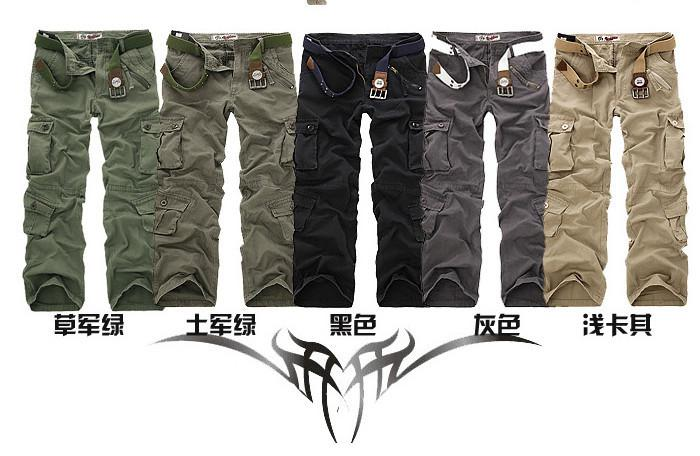pants: (19, 31, 162, 312), (545, 37, 691, 308), (160, 34, 298, 299), (296, 34, 427, 302), (417, 34, 545, 297)
